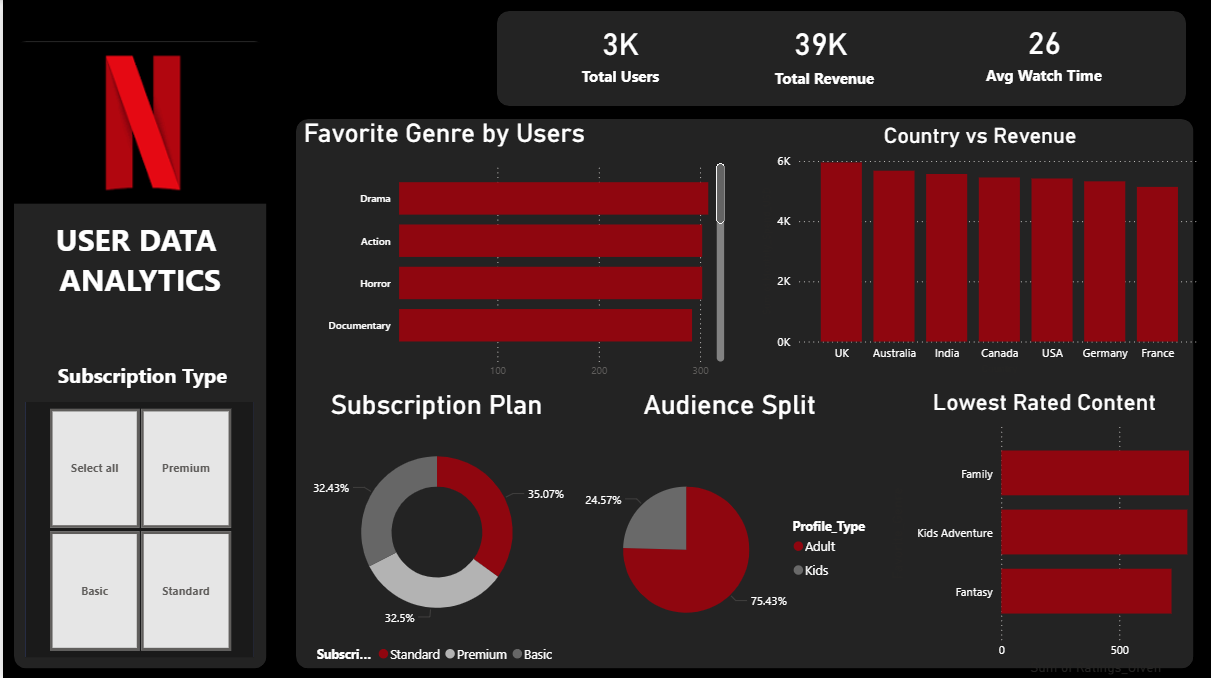

This screenshot's page, from the dashboard's own definition file:
{"tool":"powerbi","page":{"name":"Page 1","canvas":[1280,720],"ordinal":0},"visuals":[{"type":"shape","box":[0,31.8,291.1,688.7],"z":0},{"type":"image","box":[0,0,291.1,260.9],"z":1000},{"type":"textbox","box":[41.4,225.9,208.4,98.6],"z":2000},{"type":"textbox","box":[23.9,377,245,49.3],"z":3000},{"type":"shape","box":[23.9,426.3,241.8,270.4],"z":4000},{"type":"slicer","fields":{"Values":["netflix_user_behavior_fixed (1) (2).Subscription_Plan"]},"box":[23.9,426.3,241.8,270.4],"z":5000},{"type":"shape","box":[512.2,0,753.9,124.1],"z":6000},{"type":"shape","box":[299,114.5,975,606],"z":7000},{"type":"clusteredBarChart","title":" Favorite Genre by Users","fields":{"Y":["CountNonNull(netflix_user_behavior_fixed (1) (2).User_ID)"],"Category":["netflix_user_behavior_fixed (1) (2).Favorite_Genre"]},"box":[299,124.1,470.8,286.3],"z":8000},{"type":"clusteredColumnChart","title":"Country vs Revenue","fields":{"Category":["netflix_user_behavior_fixed (1) (2).Country"],"Y":["Sum(netflix_user_behavior_fixed (1) (2).Monthly_Spend_USD)"]},"box":[798.5,130.4,475.6,270.4],"z":9000},{"type":"donutChart","title":"Subscription Plan","fields":{"Category":["netflix_user_behavior_fixed (1) (2).Subscription_Plan"],"Y":["CountNonNull(netflix_user_behavior_fixed (1) (2).User_ID)"]},"box":[313.7,412,292.9,300.5],"z":10000},{"type":"pieChart","title":"Audience Split","fields":{"Category":["netflix_user_behavior_fixed (1) (2).Profile_Type"],"Y":["CountNonNull(netflix_user_behavior_fixed (1) (2).User_ID)"]},"box":[606,412,329.3,308.6],"z":11000},{"type":"clusteredBarChart","title":"Lowest Rated Content","fields":{"Category":["netflix_user_behavior_fixed (1) (2).Favorite_Genre"],"Y":["Sum(netflix_user_behavior_fixed (1) (2).Ratings_Given)"]},"box":[935.4,412,338.3,308],"z":12000},{"type":"advanceCardE03760C5AB684758B56AA29F9E6C257B","fields":{"mainMeasure":["CountNonNull(netflix_user_behavior_fixed (1) (2).User_ID)"]},"box":[499.5,81.1,12.7,373.8],"z":13000},{"type":"advanceCardE03760C5AB684758B56AA29F9E6C257B","fields":{"mainMeasure":["Count(netflix_user_behavior_fixed (1) (2).User_ID)"]},"box":[488.3,14.3,332.4,87.5],"z":14000},{"type":"advanceCardE03760C5AB684758B56AA29F9E6C257B","fields":{"mainMeasure":["Sum(netflix_user_behavior_fixed (1) (2).Monthly_Spend_USD)"]},"box":[746,14.3,249.7,87.5],"z":15000},{"type":"advanceCardE03760C5AB684758B56AA29F9E6C257B","fields":{"mainMeasure":["Avg(netflix_user_behavior_fixed (1) (2).Movies_Watched_Per_Month)"]},"box":[997.3,14.3,213.1,84.3],"z":16000}]}

Visuals, with their boxes in screenshot pixels (x1, y1, x2, y2), scaled from the page's 1280x720 canvas onto the 1211x678 screenshot:
shape: [left=0, top=30, right=275, bottom=677]
image: [left=0, top=0, right=275, bottom=246]
textbox: [left=39, top=213, right=236, bottom=306]
textbox: [left=23, top=355, right=254, bottom=401]
shape: [left=23, top=401, right=251, bottom=656]
slicer - netflix_user_behavior_fixed (1) (2).Subscription_Plan: [left=23, top=401, right=251, bottom=656]
shape: [left=485, top=0, right=1198, bottom=117]
shape: [left=283, top=108, right=1205, bottom=677]
" Favorite Genre by Users" clusteredBarChart: [left=283, top=117, right=728, bottom=386]
"Country vs Revenue" clusteredColumnChart: [left=755, top=123, right=1205, bottom=377]
"Subscription Plan" donutChart: [left=297, top=388, right=574, bottom=671]
"Audience Split" pieChart: [left=573, top=388, right=885, bottom=677]
"Lowest Rated Content" clusteredBarChart: [left=885, top=388, right=1205, bottom=677]
advanceCardE03760C5AB684758B56AA29F9E6C257B - CountNonNull(netflix_user_behavior_fixed (1) (2).User_ID): [left=473, top=76, right=485, bottom=428]
advanceCardE03760C5AB684758B56AA29F9E6C257B - Count(netflix_user_behavior_fixed (1) (2).User_ID): [left=462, top=13, right=776, bottom=96]
advanceCardE03760C5AB684758B56AA29F9E6C257B - Sum(netflix_user_behavior_fixed (1) (2).Monthly_Spend_USD): [left=706, top=13, right=942, bottom=96]
advanceCardE03760C5AB684758B56AA29F9E6C257B - Avg(netflix_user_behavior_fixed (1) (2).Movies_Watched_Per_Month): [left=944, top=13, right=1145, bottom=93]
